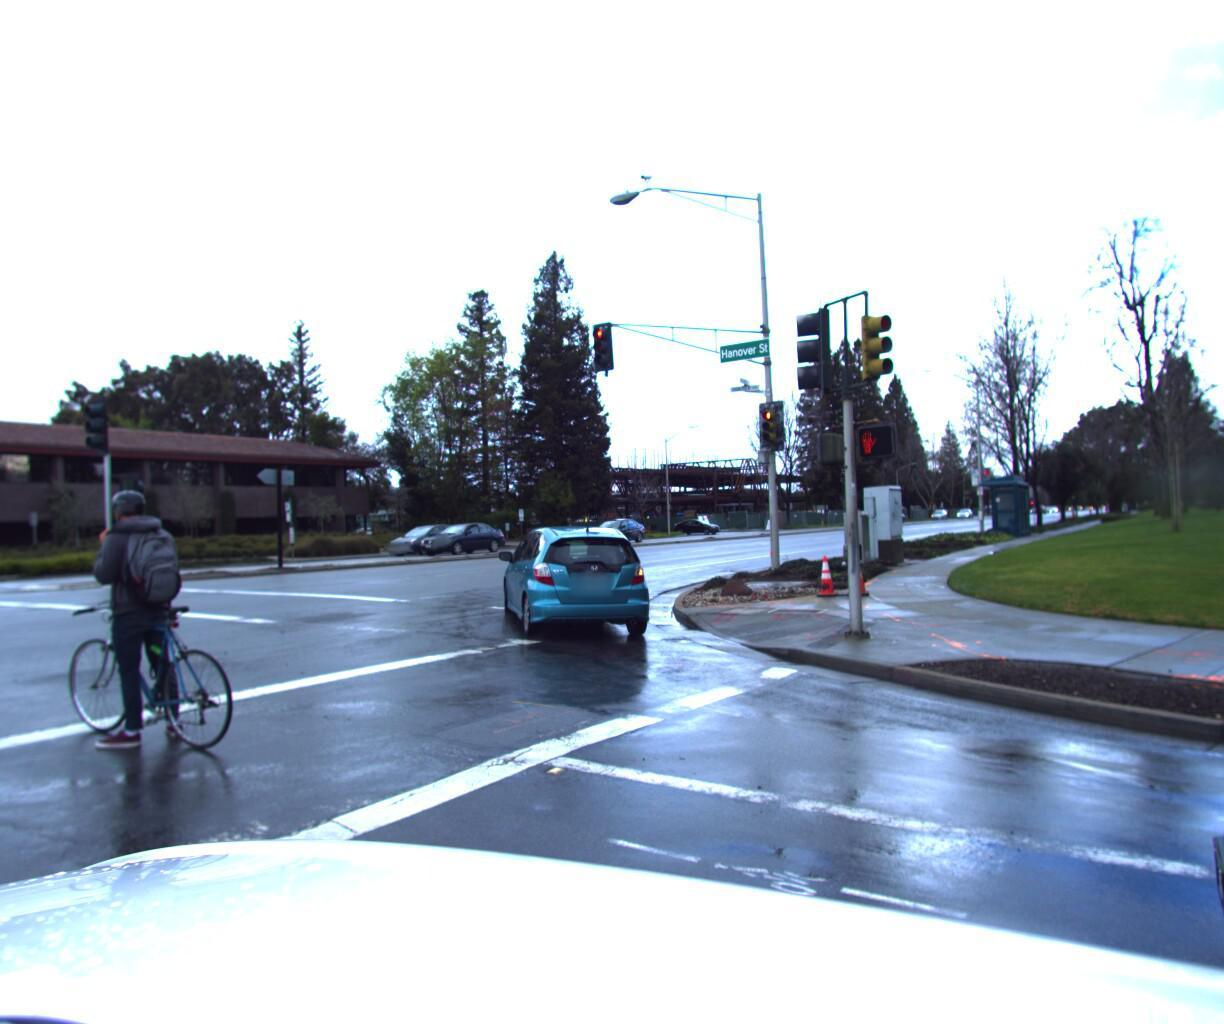bicycle: (1, 478, 264, 772)
car: (489, 513, 666, 643), (410, 518, 510, 556), (379, 521, 474, 556), (584, 513, 652, 543), (669, 517, 722, 537)
